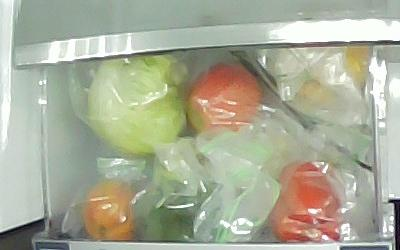apple_vinyl: (188, 63, 262, 138)
broccoli_vinyl: (132, 154, 216, 242)
cucumber_vinyl: (229, 50, 374, 174)
grapefruit_vinyl: (278, 44, 368, 104)
lettuce_vinyl: (86, 53, 186, 155)
paprika_vinyl: (269, 160, 340, 244)
peach_vinyl: (81, 180, 137, 242)
